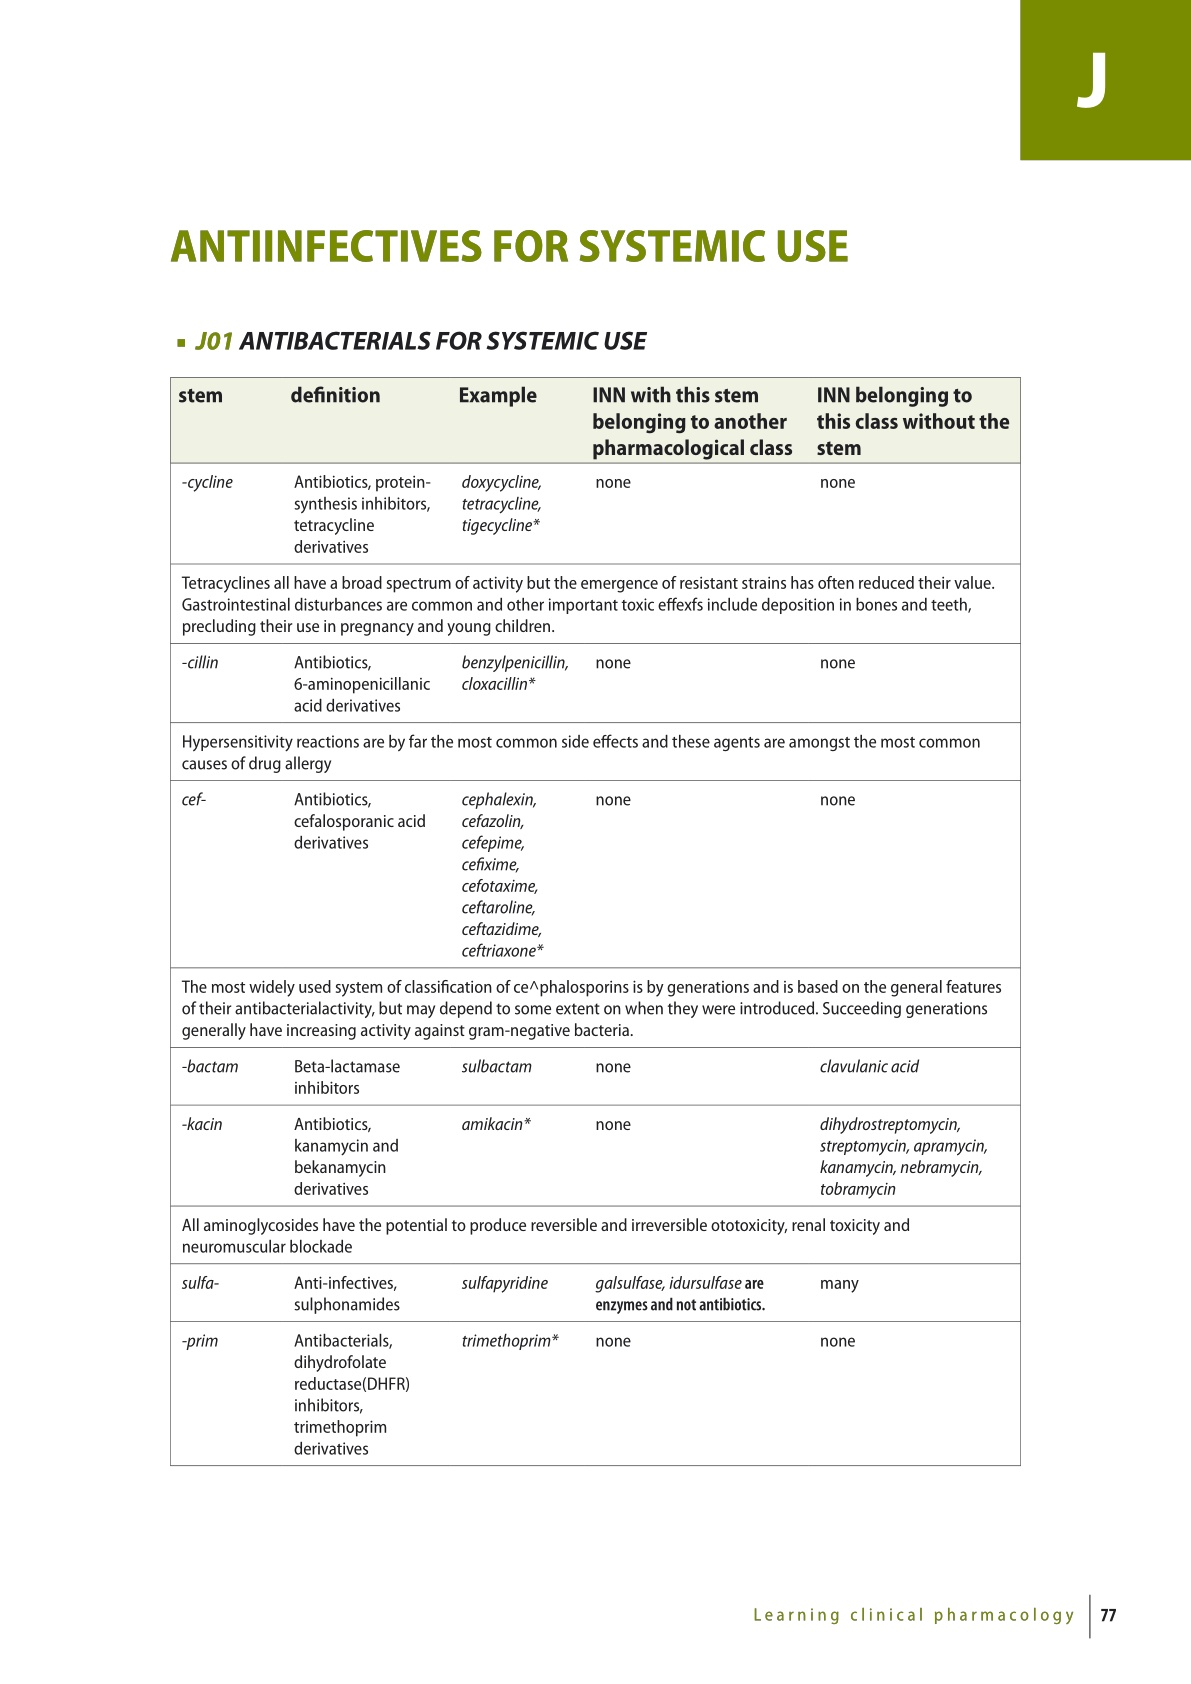partial_lined_merged_cells: (169, 375, 1022, 1468)
